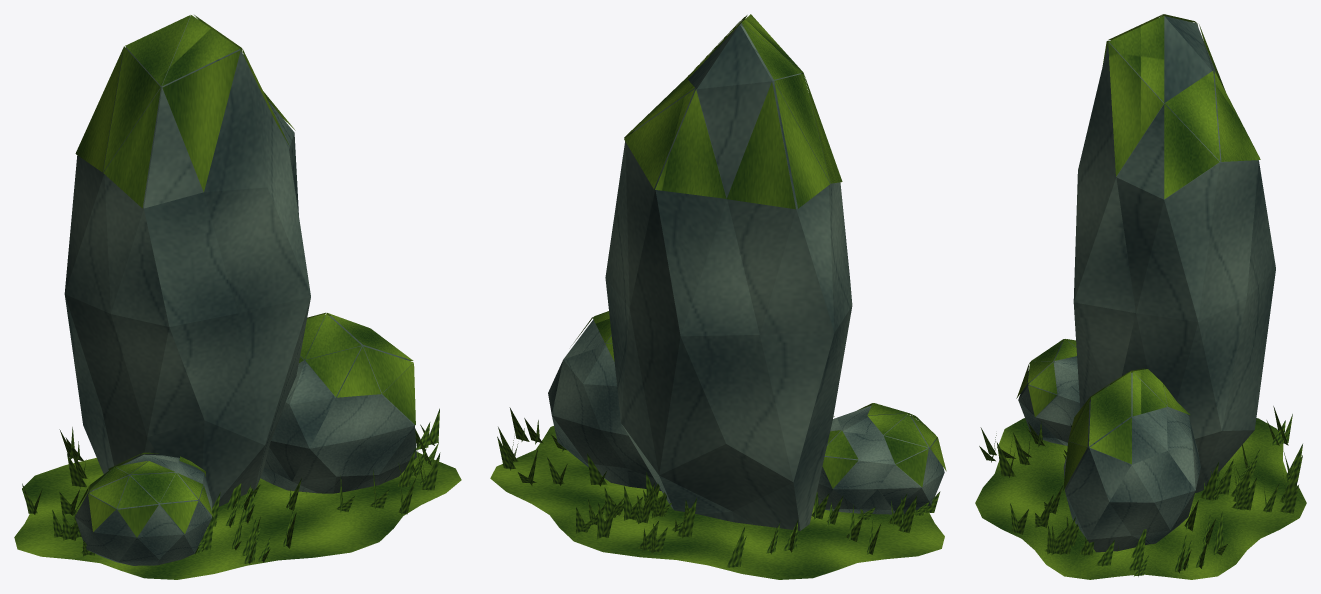
File: moss-standing-rock.glb
3 views of the same model, side by side, from view 1: azimuth 30°, elevation 25°; view 2: azimuth 150°, elevation 25°; view 3: azimuth 270°, elevation 25° (orthographic). The views are drawn at different scales.
Parts seen in each view (by area): view 1: moss-standing-rock_props-rock, moss-standing-rock_props-moss, moss-standing-rock_props-grass; view 2: moss-standing-rock_props-rock, moss-standing-rock_props-moss, moss-standing-rock_props-grass; view 3: moss-standing-rock_props-rock, moss-standing-rock_props-moss, moss-standing-rock_props-grass.
Part boxes in pixels (x1,y1,x2,y2): moss-standing-rock_props-rock: (64, 16, 416, 565); moss-standing-rock_props-moss: (14, 15, 461, 579); moss-standing-rock_props-grass: (22, 408, 440, 564); moss-standing-rock_props-rock: (548, 23, 944, 530); moss-standing-rock_props-moss: (490, 14, 946, 579); moss-standing-rock_props-grass: (497, 407, 940, 567); moss-standing-rock_props-rock: (1018, 16, 1275, 552); moss-standing-rock_props-moss: (975, 14, 1306, 579); moss-standing-rock_props-grass: (979, 406, 1302, 576).
Bounding box in the file's own units: 2.02 × 2.41 × 1.43.
Materials: 3 (3 with a texture image).
